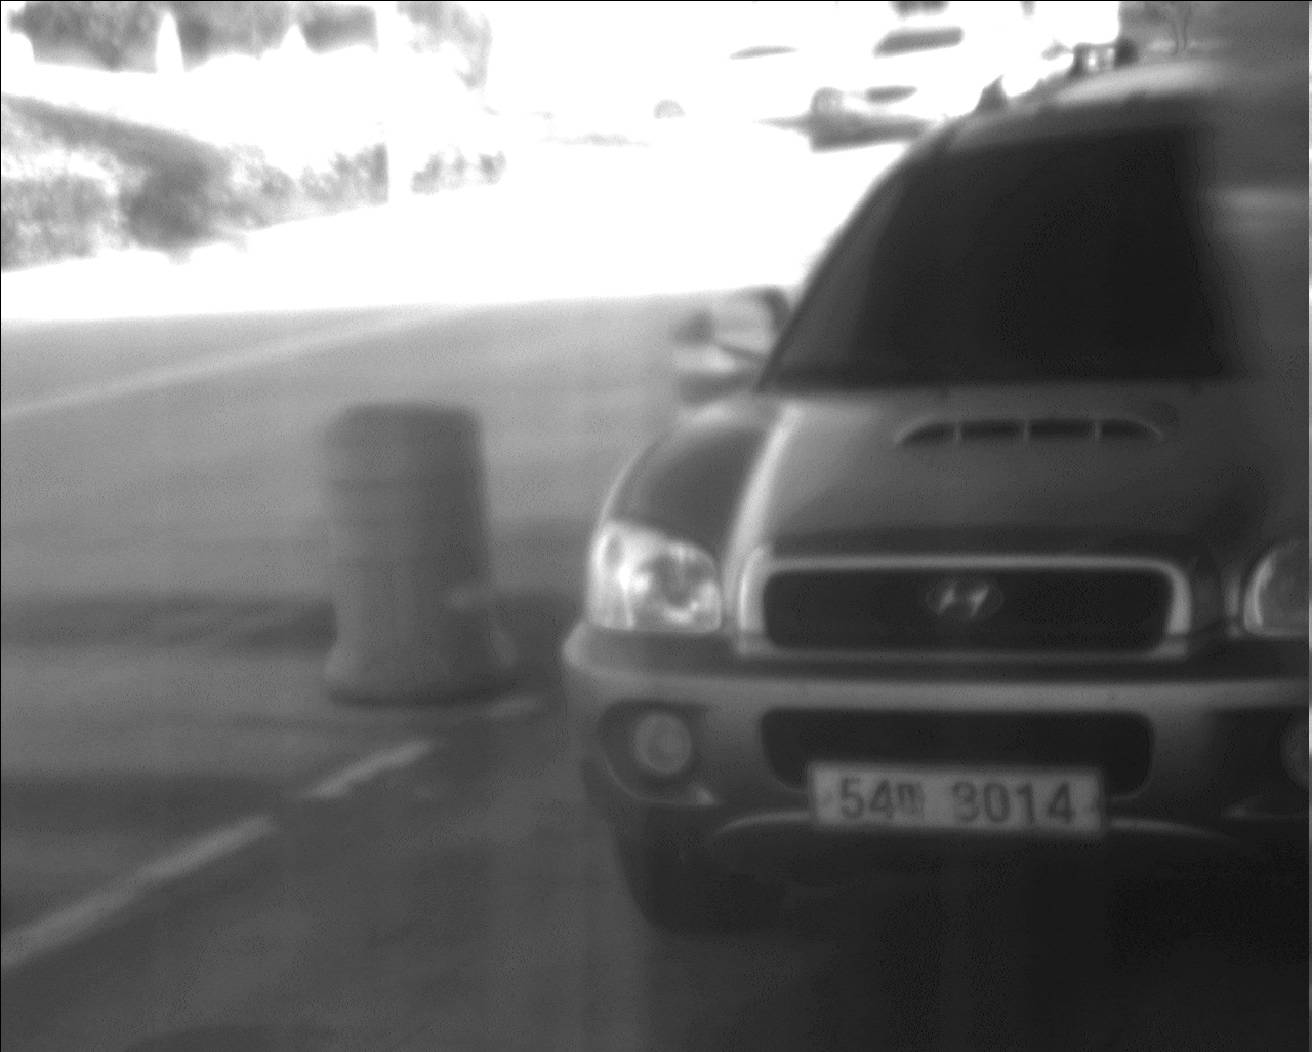car: (555, 49, 1312, 935)
plate: (802, 760, 1113, 845)
